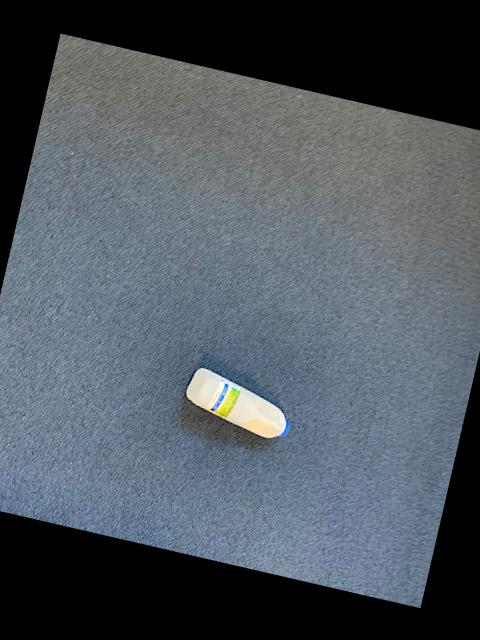plastic: (185, 368, 287, 438)
